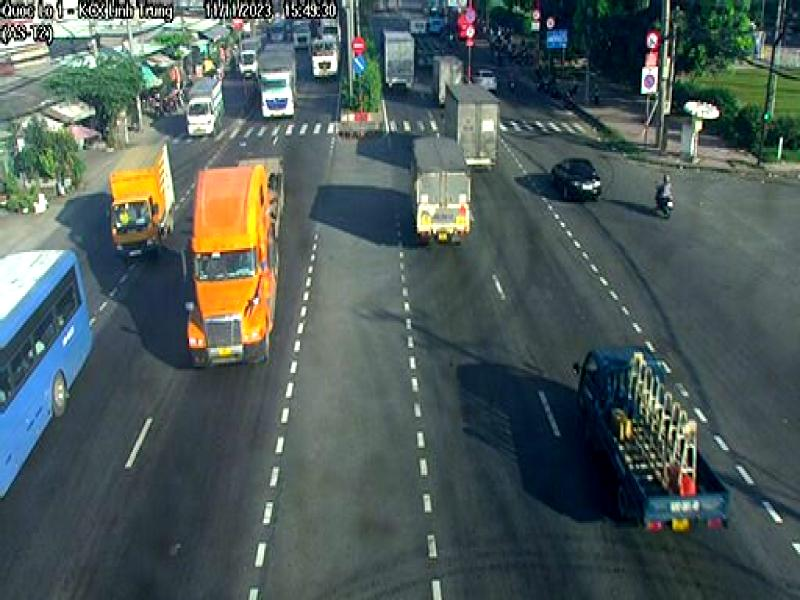bus: (0, 251, 97, 502)
truck: (574, 340, 733, 535), (188, 154, 285, 363), (109, 142, 178, 259), (409, 133, 473, 252), (442, 81, 501, 175), (255, 43, 299, 120), (186, 73, 226, 142)
